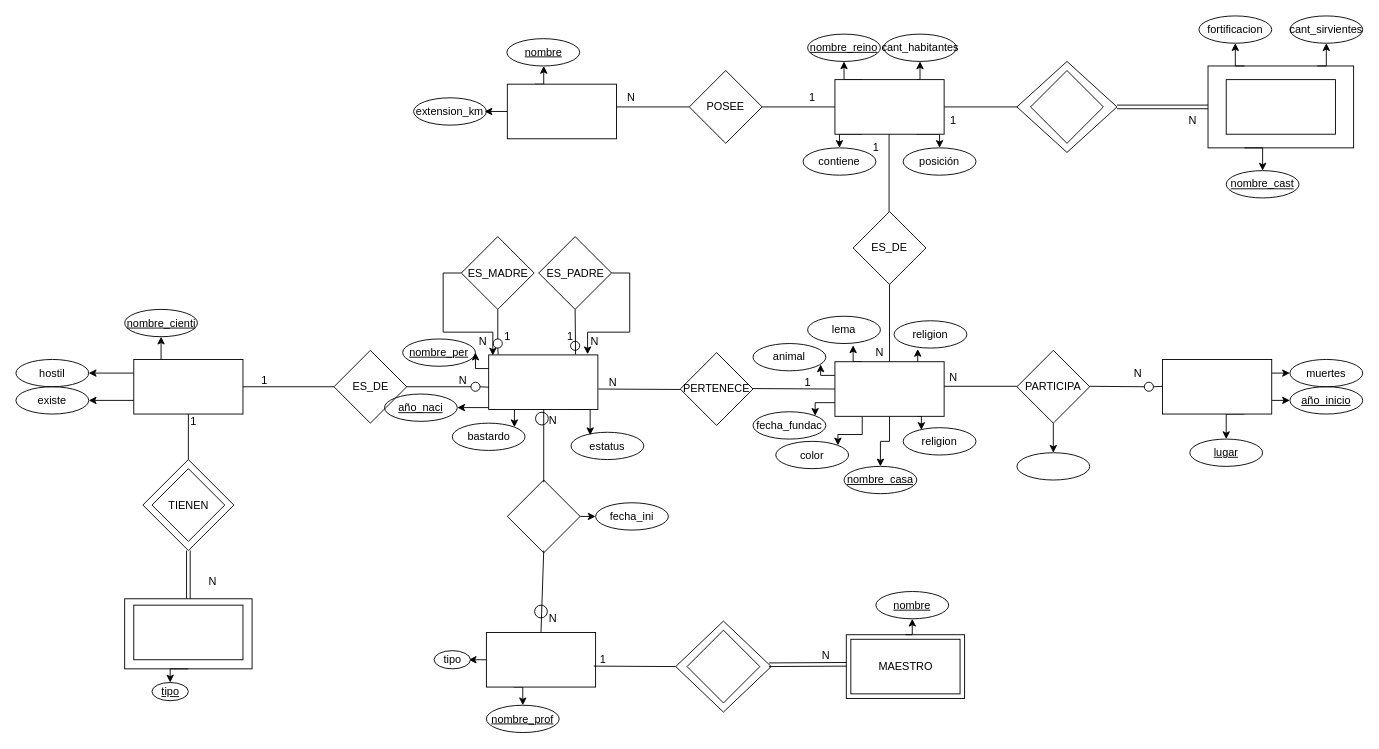
This 1379x749 diagram has some shape labels left out. Here are the shapes that lost their labels. From the top down, the box of each, then its label:
(506, 83, 617, 139): CIUDAD
(834, 79, 944, 134): REINO
(1030, 70, 1103, 143): TIENE
(1225, 79, 1335, 134): CASTILLO
(133, 359, 243, 414): ESPECIE
(488, 354, 598, 410): PERSONAJE
(834, 361, 944, 416): CASA
(1162, 359, 1272, 414): GUERRA
(1016, 452, 1090, 480): gana
(506, 479, 580, 553): EJERCE
(133, 604, 243, 660): HABILIDAD
(485, 632, 596, 687): PROFESION
(686, 629, 760, 703): ENSEÑA
